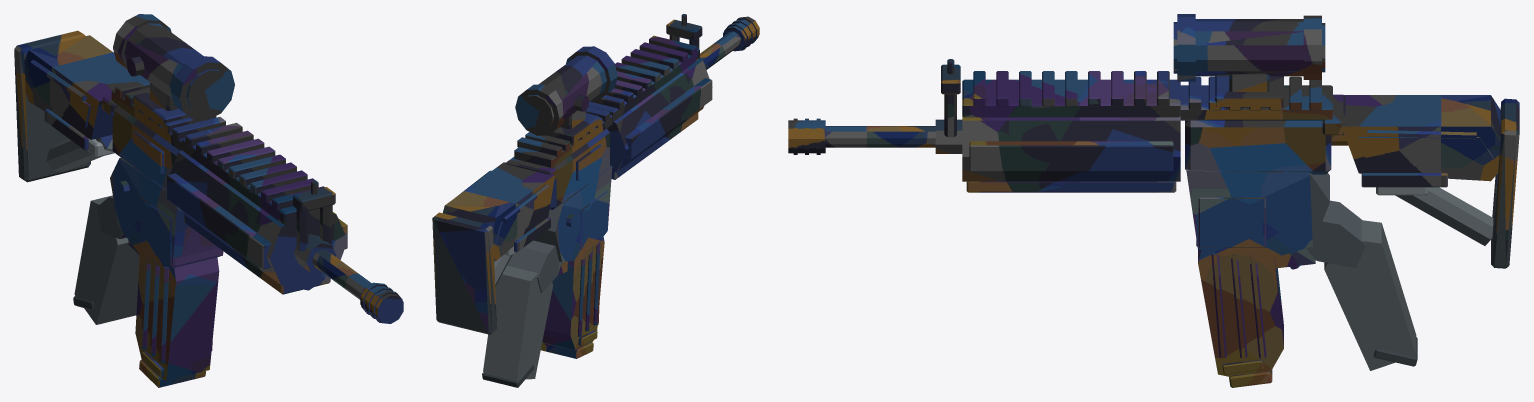
The model's file is M4_HardenedSteel.glb.
The picture shows the model from 3 angles, left to right: view 1: azimuth 30°, elevation 25°; view 2: azimuth 150°, elevation 25°; view 3: azimuth 270°, elevation 25°; orthographic projection. The views are drawn at different scales.
Parts seen in each view (by area): view 1: StaticVisual; view 2: StaticVisual; view 3: StaticVisual.
Part boxes in pixels (x1,y1,x2,y2): StaticVisual: (14, 14, 403, 387); StaticVisual: (432, 14, 759, 387); StaticVisual: (788, 14, 1519, 387).
Bounding box in the file's own units: 0.182 × 0.6896 × 1.27.
Materials: 7 (1 with a texture image).
